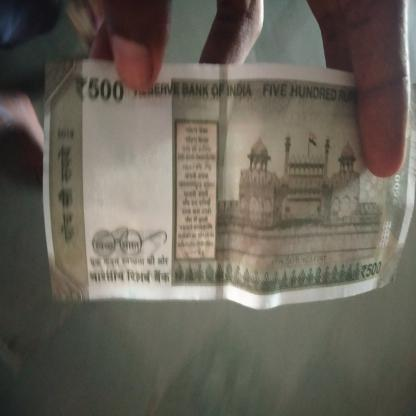New500Back: (47, 62, 412, 297)
